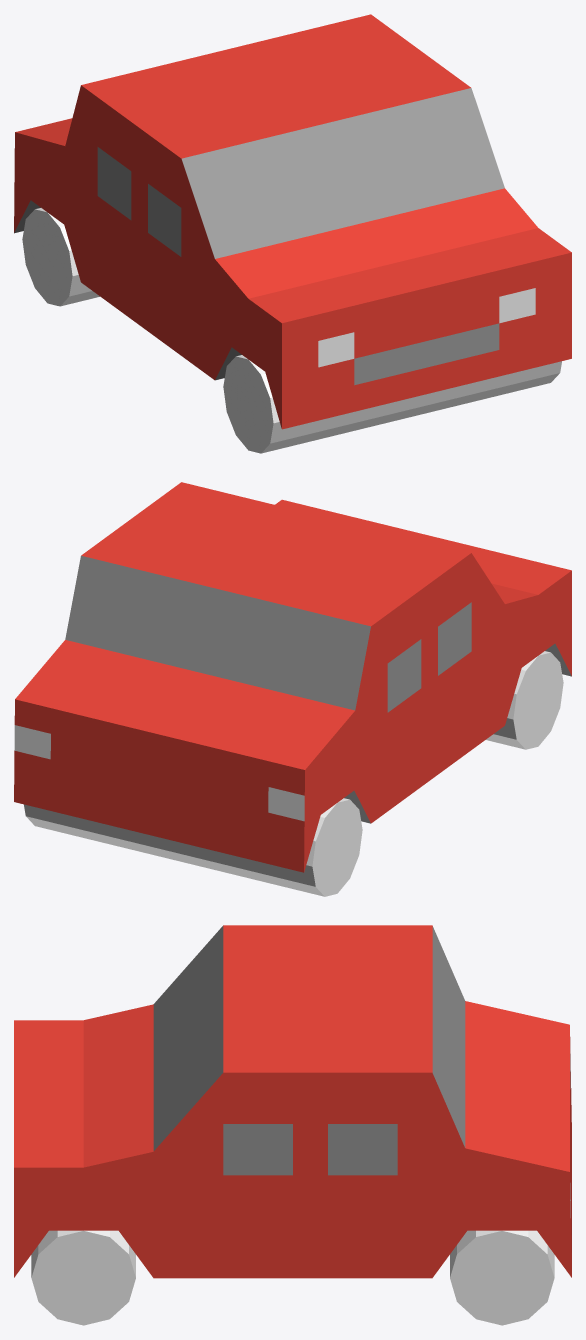
3 renders of one model, top to bottom at view 1: azimuth 30°, elevation 25°; view 2: azimuth 150°, elevation 25°; view 3: azimuth 270°, elevation 25°, orthographic. The views are drawn at different scales.
Parts seen in each view (by area): view 1: mesh_672680355, mesh_997756352, mesh_1515829637; view 2: mesh_672680355, mesh_1515829637, mesh_997756352; view 3: mesh_672680355, mesh_997756352, mesh_1515829637.
Boxes of the visible parts, left/top/right/bottom form: mesh_672680355: left=14, top=14, right=571, bottom=429; mesh_997756352: left=223, top=355, right=561, bottom=453; mesh_1515829637: left=22, top=208, right=99, bottom=306; mesh_672680355: left=14, top=482, right=571, bottom=872; mesh_1515829637: left=24, top=798, right=362, bottom=896; mesh_997756352: left=486, top=651, right=563, bottom=749; mesh_672680355: left=14, top=925, right=571, bottom=1278; mesh_997756352: left=31, top=1230, right=135, bottom=1325; mesh_1515829637: left=450, top=1230, right=554, bottom=1325.
Size of the model in its own units: 20 by 16 by 32.
